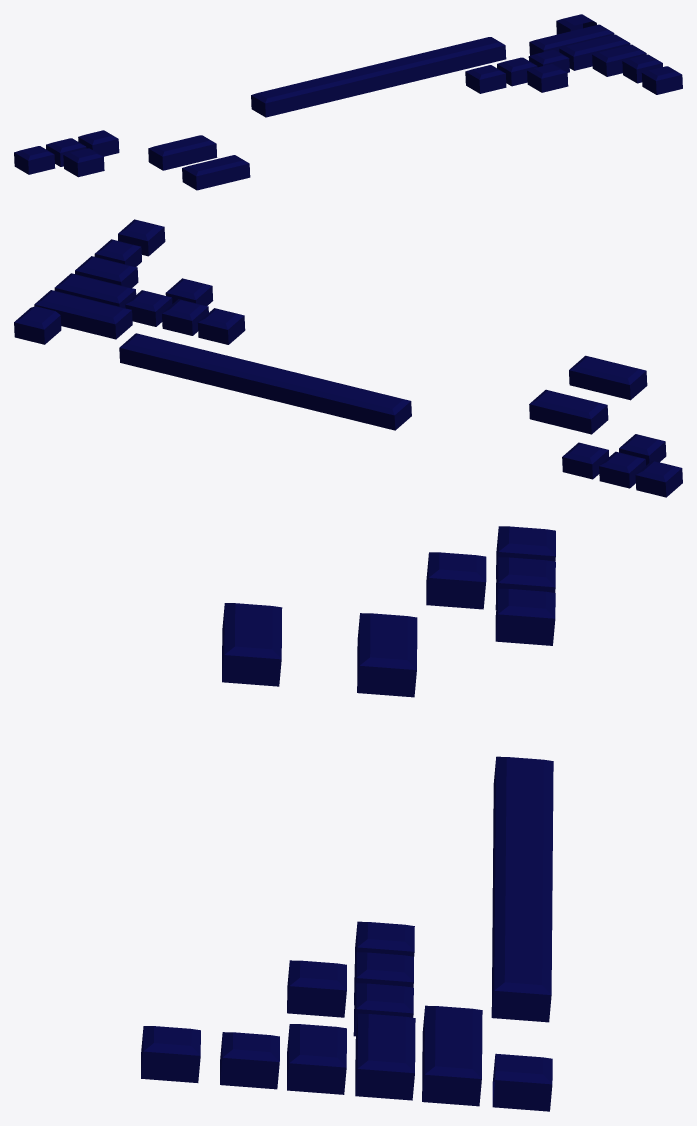
Rendered from object_271_lev1.glb.
3 renders of one model, top to bottom at view 1: azimuth 30°, elevation 25°; view 2: azimuth 150°, elevation 25°; view 3: azimuth 270°, elevation 25°, orthographic. The views are drawn at different scales.
Visible parts, largest first — view 1: object_271_lev1; view 2: object_271_lev1; view 3: object_271_lev1.
Part boxes in pixels (x1,y1,x2,y2): object_271_lev1: [14, 14, 682, 190]; object_271_lev1: [14, 219, 682, 497]; object_271_lev1: [141, 526, 555, 1111].
Bounding box in the file's own units: 5.63 × 0.2946 × 1.78.
